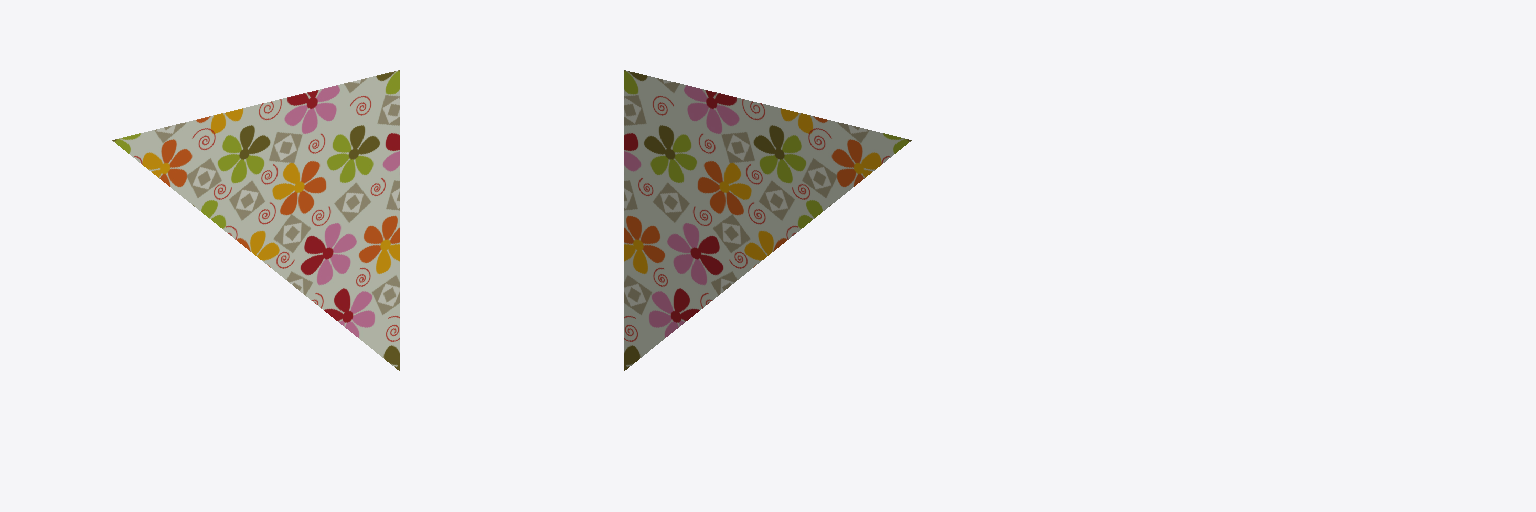
The picture shows the model from 3 angles: view 1: azimuth 30°, elevation 25°; view 2: azimuth 150°, elevation 25°; view 3: azimuth 270°, elevation 25°; orthographic projection.
Visible parts, largest first — view 1: Plane; view 2: Plane; view 3: none.
Part boxes in pixels (x1,y1,x2,y2): Plane: (112, 70, 399, 370); Plane: (624, 70, 911, 370).
Size of the model in its own units: 2 by 2 by 0.
Materials: 1 (1 with a texture image).